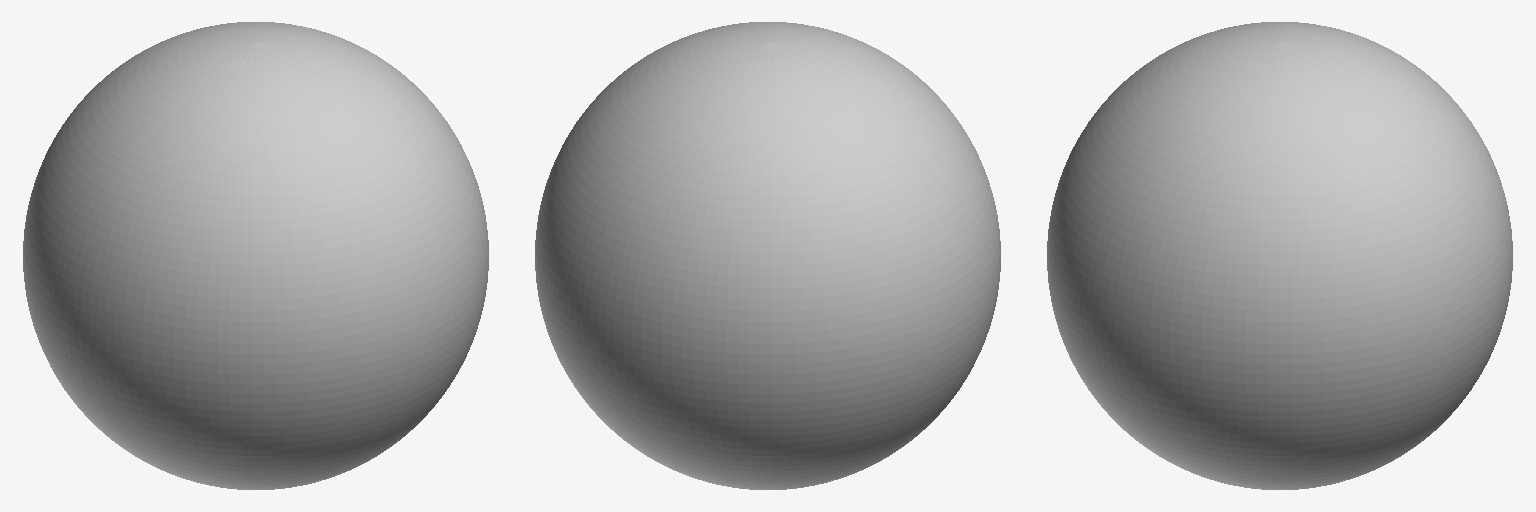
The model's file is ball.obj.
The picture shows the model from 3 angles: view 1: azimuth 30°, elevation 25°; view 2: azimuth 150°, elevation 25°; view 3: azimuth 270°, elevation 25°; orthographic projection.
Visible parts, largest first — view 1: 球_球.002; view 2: 球_球.002; view 3: 球_球.002.
Boxes of the visible parts, x1,y1,x2,y2 form: 球_球.002: [23, 22, 488, 489]; 球_球.002: [535, 22, 1000, 489]; 球_球.002: [1047, 22, 1512, 489].
Bounding box in the file's own units: 1.97 × 2 × 1.97.